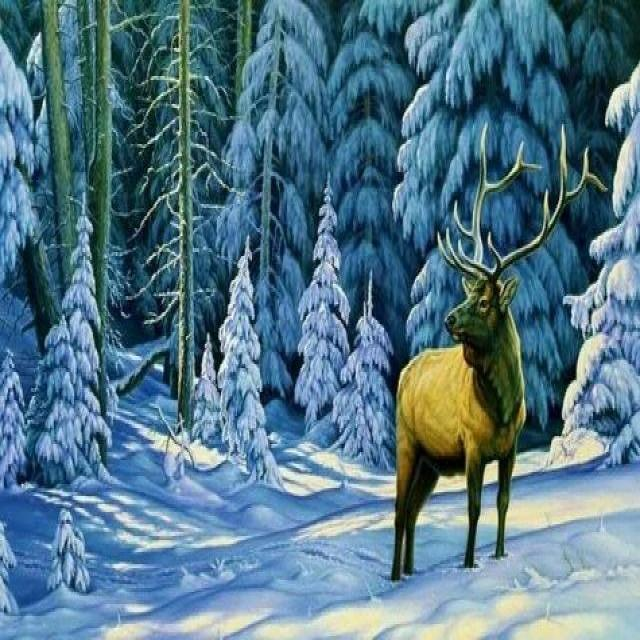deer: (341, 133, 591, 599)
